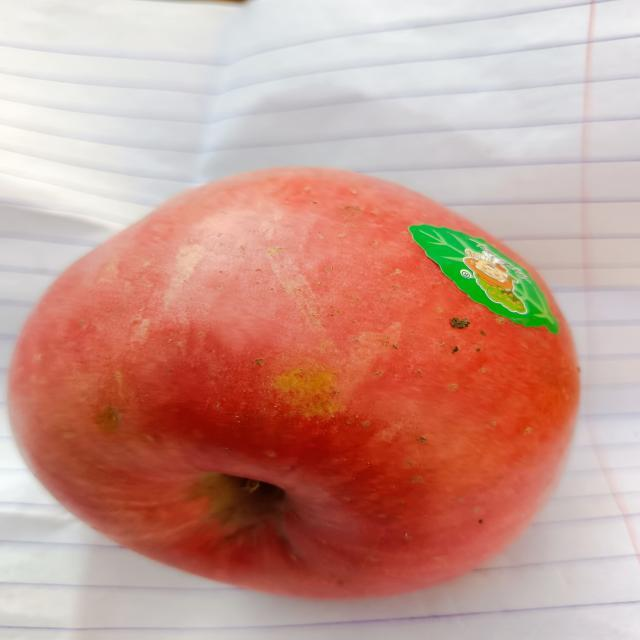Fresh Apple: (17, 160, 573, 597)
